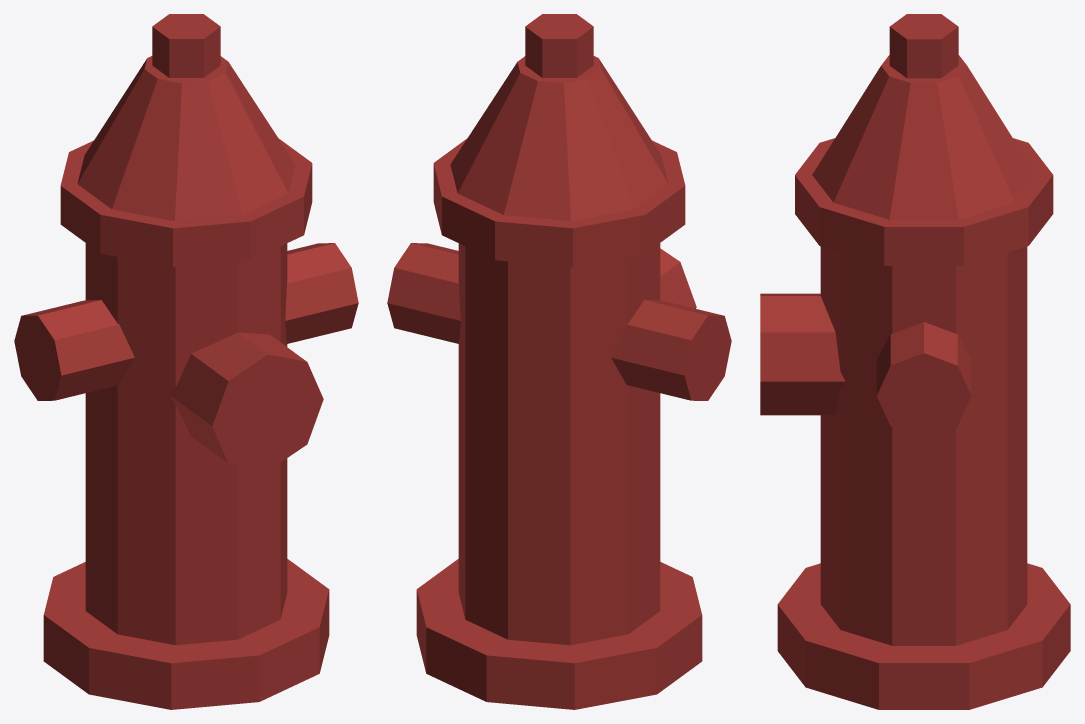
File: objet_borne_rouge.glb
The picture shows the model from 3 angles, left to right: view 1: azimuth 30°, elevation 25°; view 2: azimuth 150°, elevation 25°; view 3: azimuth 270°, elevation 25°; orthographic projection.
Parts seen in each view (by area): view 1: objet_borne_rouge; view 2: objet_borne_rouge; view 3: objet_borne_rouge.
Boxes of the visible parts, box(x1,y1,x2,y2) form: objet_borne_rouge: box(14, 14, 358, 709); objet_borne_rouge: box(387, 14, 731, 709); objet_borne_rouge: box(760, 14, 1070, 709).
Bounding box in the file's own units: 0.4 × 0.8 × 0.36.
